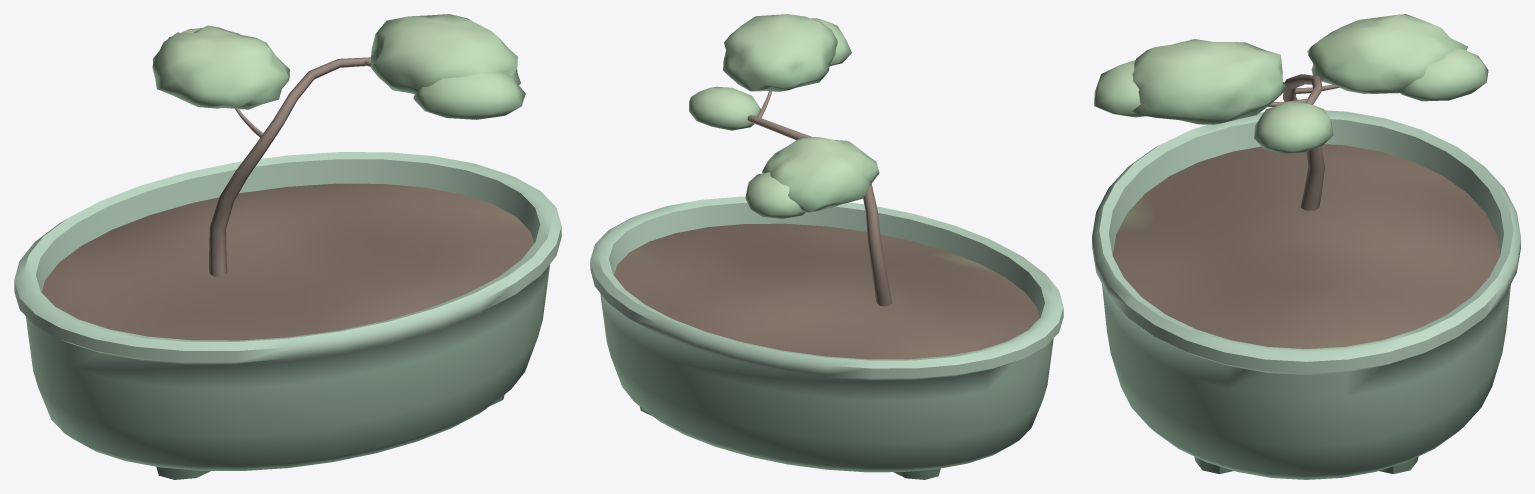
The model's file is bonsai_stage1.glb.
3 views of the same model, side by side, from view 1: azimuth 30°, elevation 25°; view 2: azimuth 150°, elevation 25°; view 3: azimuth 270°, elevation 25° (orthographic). The views are drawn at different scales.
Parts seen in each view (by area): view 1: bonsai_stage1; view 2: bonsai_stage1; view 3: bonsai_stage1.
Part boxes in pixels (<box>): bonsai_stage1: <box>14,14,561,479</box>; bonsai_stage1: <box>590,14,1063,479</box>; bonsai_stage1: <box>1092,14,1520,479</box>.
Size of the model in its own units: 0.3672 by 0.2668 by 0.2652.
